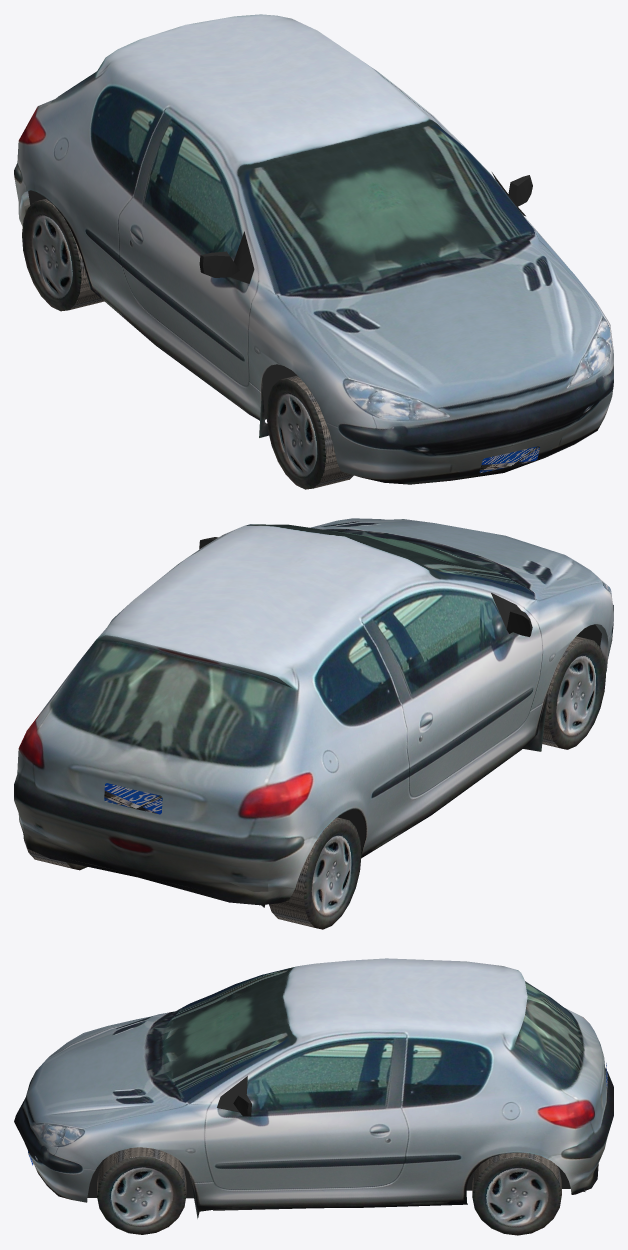
The picture shows the model from 3 angles, top to bottom: view 1: azimuth 30°, elevation 25°; view 2: azimuth 150°, elevation 25°; view 3: azimuth 270°, elevation 25°; orthographic projection. The views are drawn at different scales.
Parts seen in each view (by area): view 1: CAR-145, CAR-142, CAR-144; view 2: CAR-145, CAR-144, CAR-142; view 3: CAR-145, CAR-141, CAR-143.
Part boxes in pixels (bbox=[...]): CAR-145: bbox=[14, 14, 613, 484]; CAR-142: bbox=[266, 375, 353, 489]; CAR-144: bbox=[22, 198, 104, 311]; CAR-145: bbox=[14, 518, 613, 907]; CAR-144: bbox=[269, 817, 361, 929]; CAR-142: bbox=[542, 636, 605, 749]; CAR-145: bbox=[14, 958, 613, 1218]; CAR-141: bbox=[97, 1147, 186, 1234]; CAR-143: bbox=[472, 1152, 561, 1235].
Bounding box in the file's own units: 1.92 × 1.39 × 3.92.
6 materials, 5 textured.
